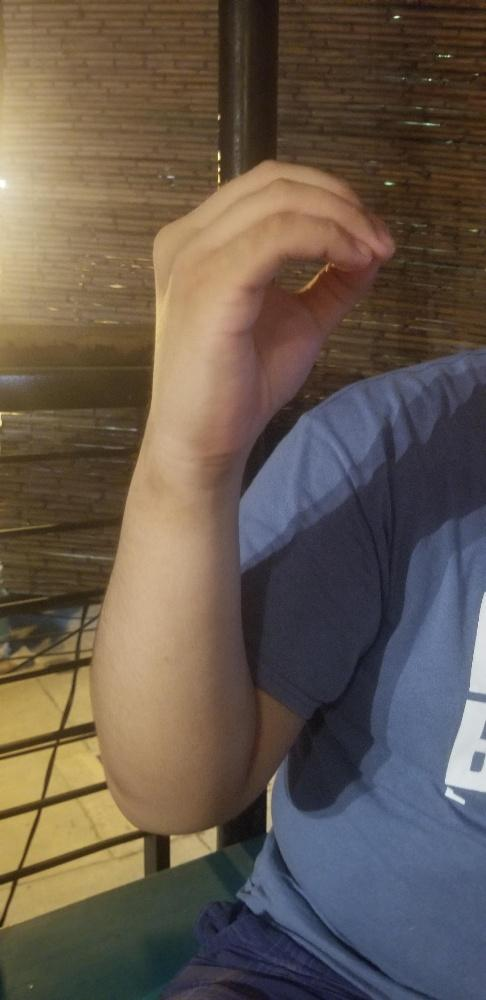o: (150, 158, 393, 436)
